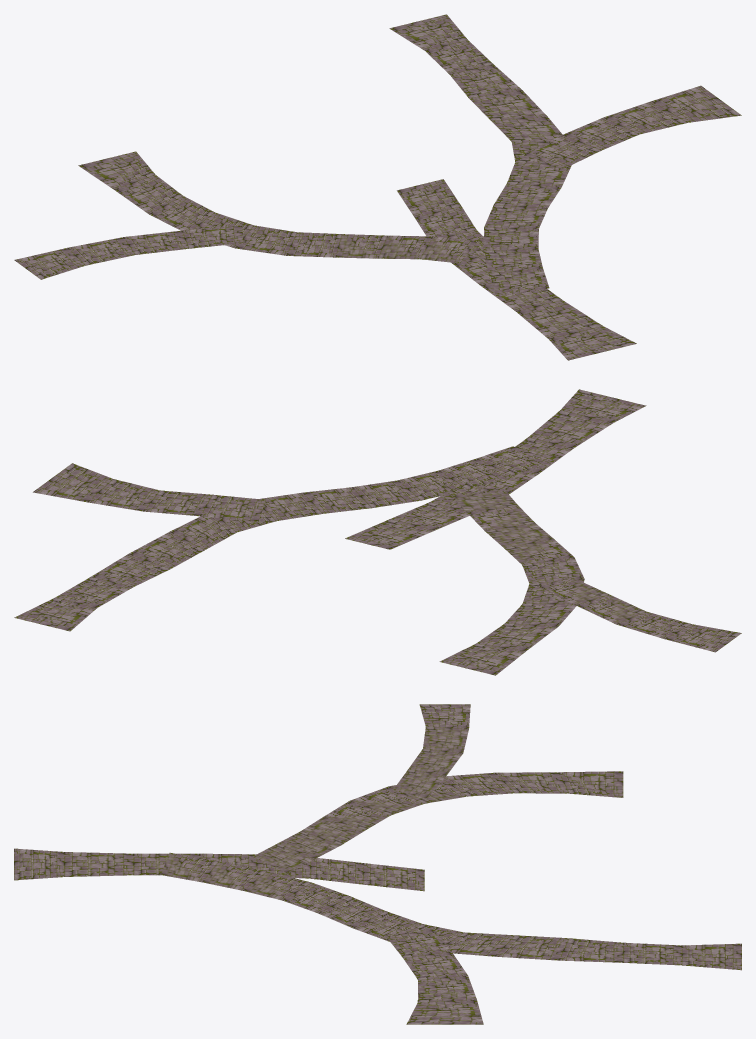
File: Path_Art.fbx
3 renders of one model, top to bottom at view 1: azimuth 30°, elevation 25°; view 2: azimuth 150°, elevation 25°; view 3: azimuth 270°, elevation 25°, orthographic. The views are drawn at different scales.
Parts seen in each view (by area): view 1: Oktoberfest_Path; view 2: Oktoberfest_Path; view 3: Oktoberfest_Path.
Part boxes in pixels (bbox=[...]): Oktoberfest_Path: bbox=[14, 14, 741, 360]; Oktoberfest_Path: bbox=[14, 389, 741, 675]; Oktoberfest_Path: bbox=[14, 704, 741, 1024].
Size of the model in its own units: 5997 by 10.78 by 5764.
Materials: 1 (1 with a texture image).
